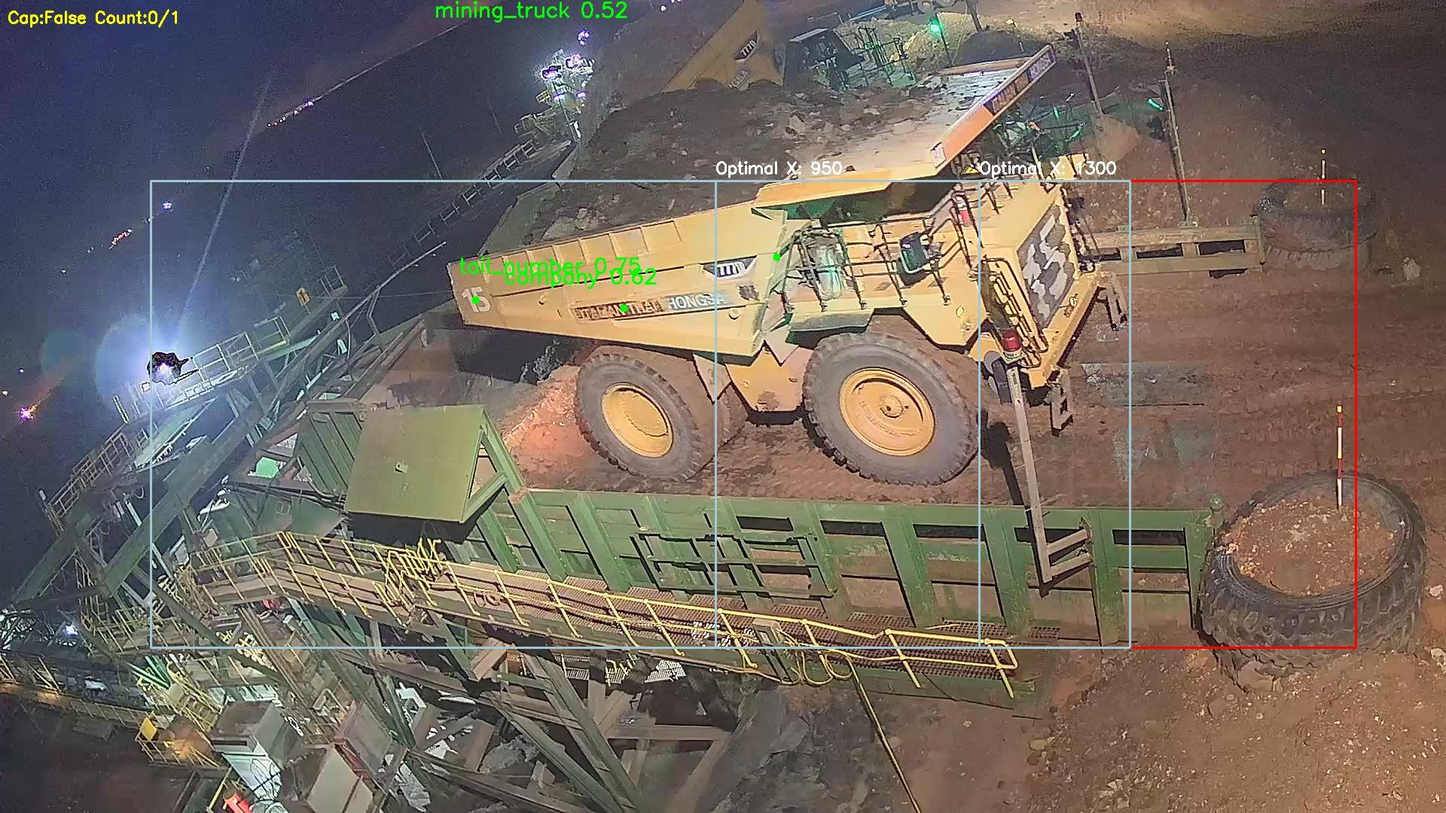company: (568, 292, 739, 320)
full_load: (560, 84, 790, 223)
mining_truck: (434, 52, 1130, 491)
tail_number: (458, 285, 494, 316)
truck_size: (712, 259, 752, 280)
